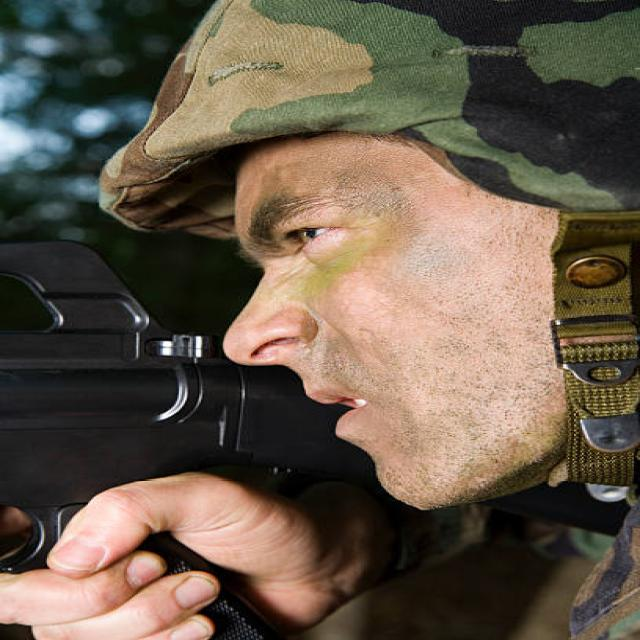soldier: (7, 11, 640, 640)
